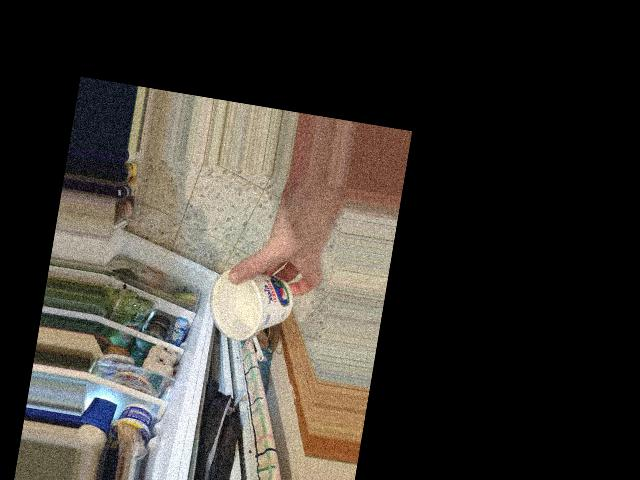cotage: (202, 253, 295, 344)
